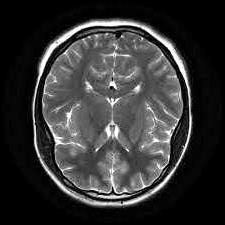Normal_Brain: (11, 5, 225, 225)
